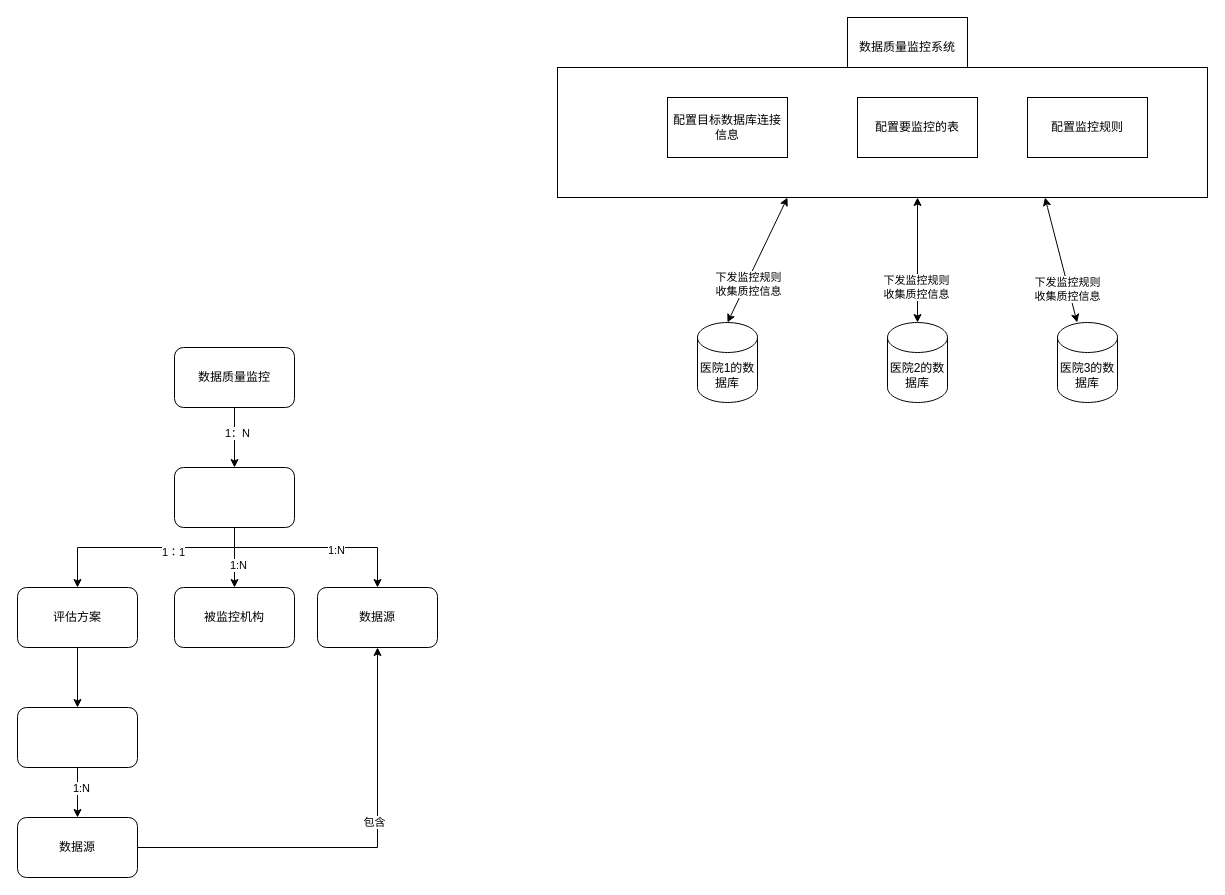
Image size: 1225x895. Some labels were removed from this diagram. Each missing label, with the centre of its shape:
"元数据" goes at (x=77, y=737).
"监控任务" goes at (x=234, y=497).
